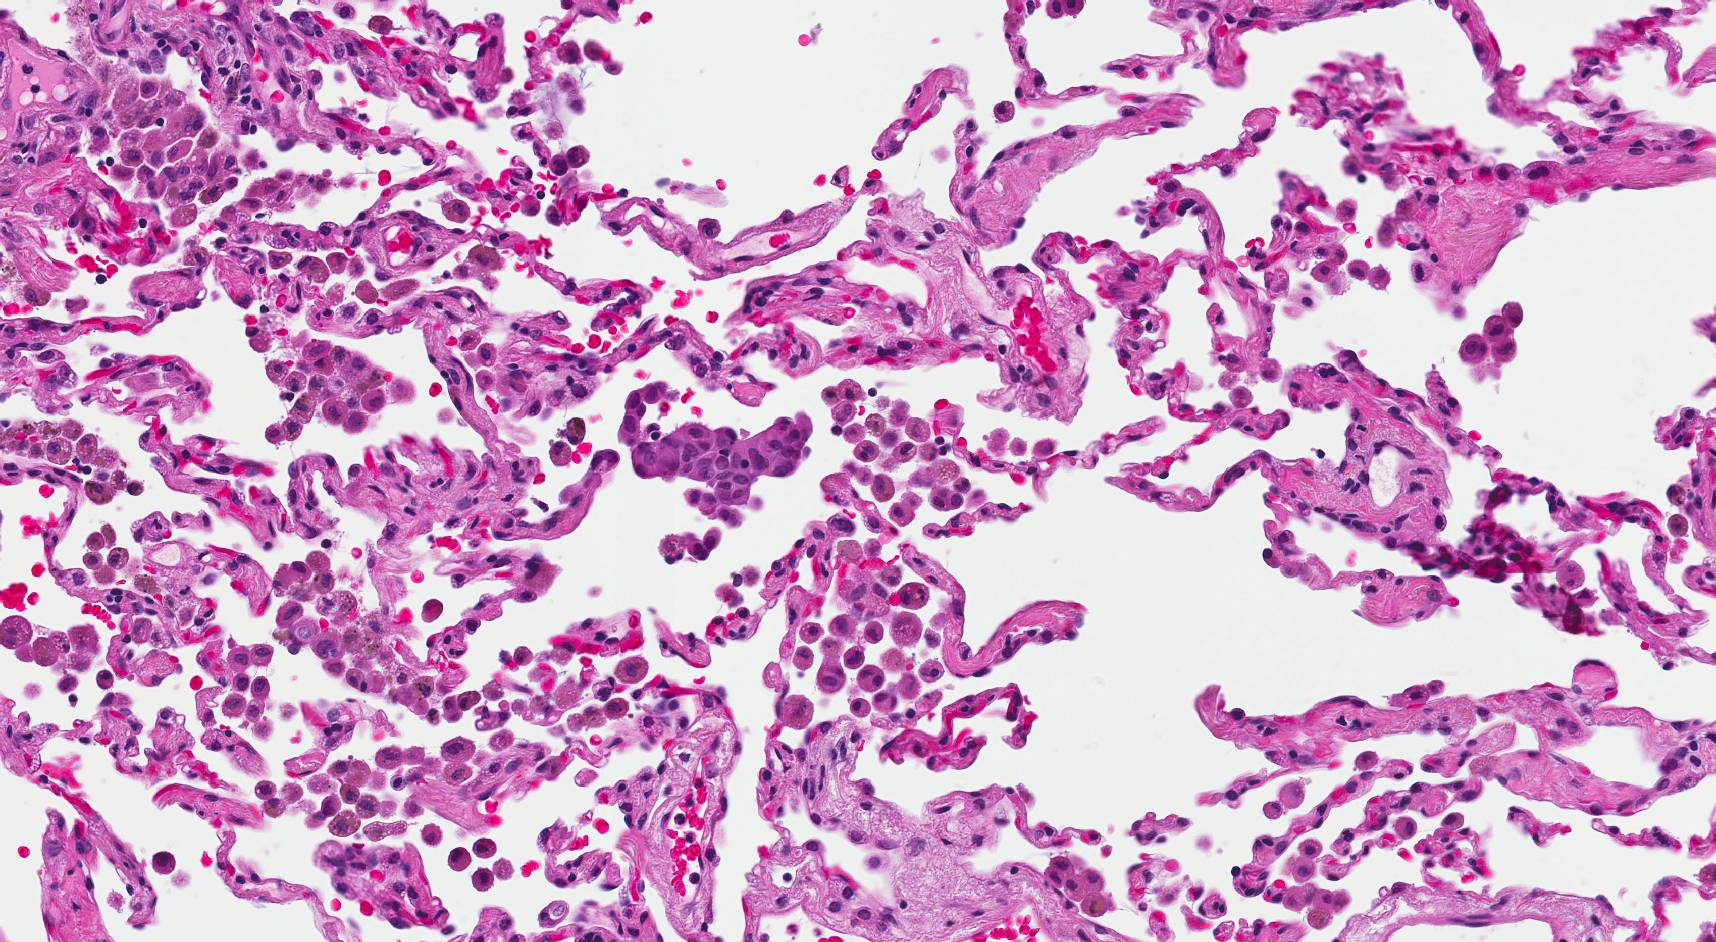stas: (630, 412, 810, 517), (613, 382, 667, 443)
